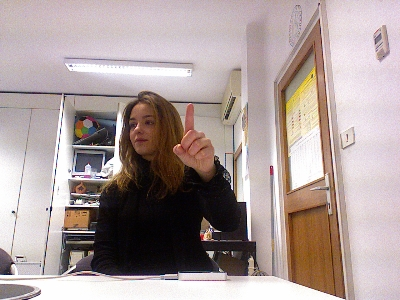食指: (171, 101, 215, 172)
